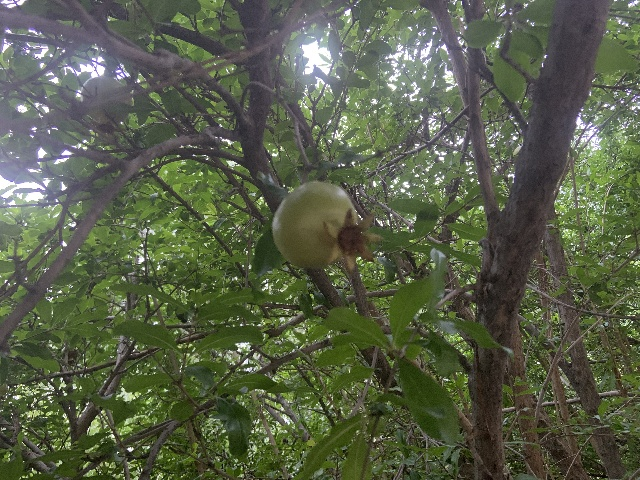mid-growth: (272, 181, 382, 271), (80, 76, 132, 137)
